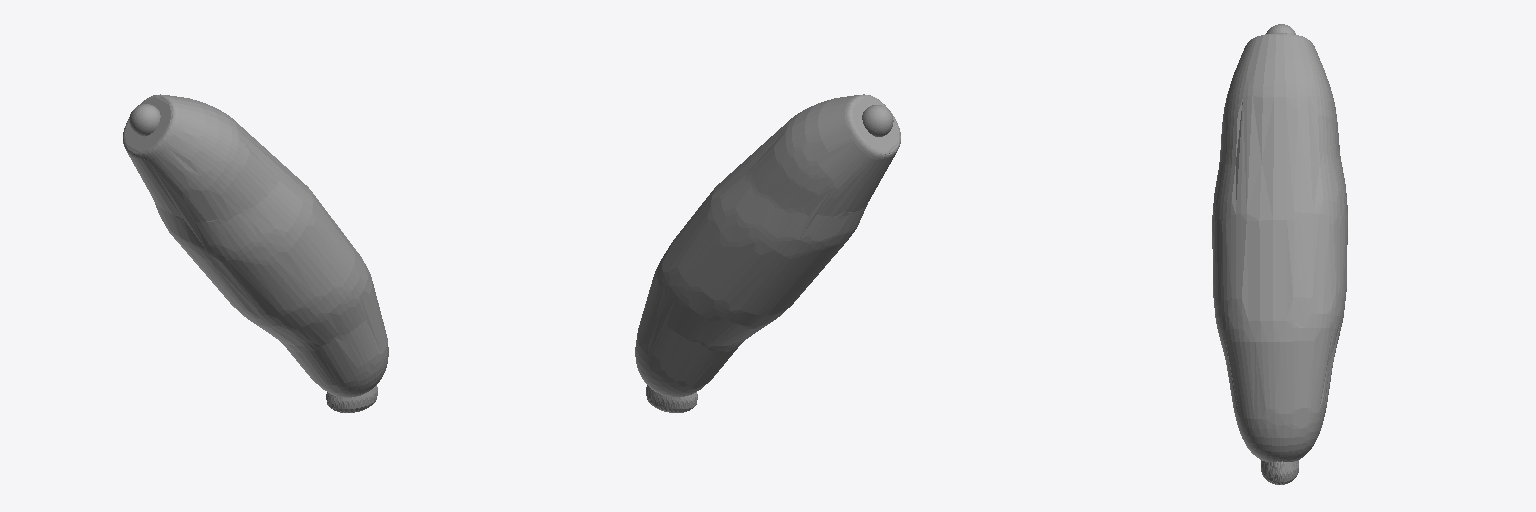
Rendered from lower_leg.obj.
The picture shows the model from 3 angles: view 1: azimuth 30°, elevation 25°; view 2: azimuth 150°, elevation 25°; view 3: azimuth 270°, elevation 25°; orthographic projection.
Parts seen in each view (by area): view 1: lowerleg_Cone; view 2: lowerleg_Cone; view 3: lowerleg_Cone.
Part boxes in pixels (bbox=[...]): lowerleg_Cone: bbox=[123, 94, 388, 412]; lowerleg_Cone: bbox=[635, 94, 900, 412]; lowerleg_Cone: bbox=[1212, 24, 1347, 484].
Size of the model in its own units: 1.19 by 1.62 by 0.5552.